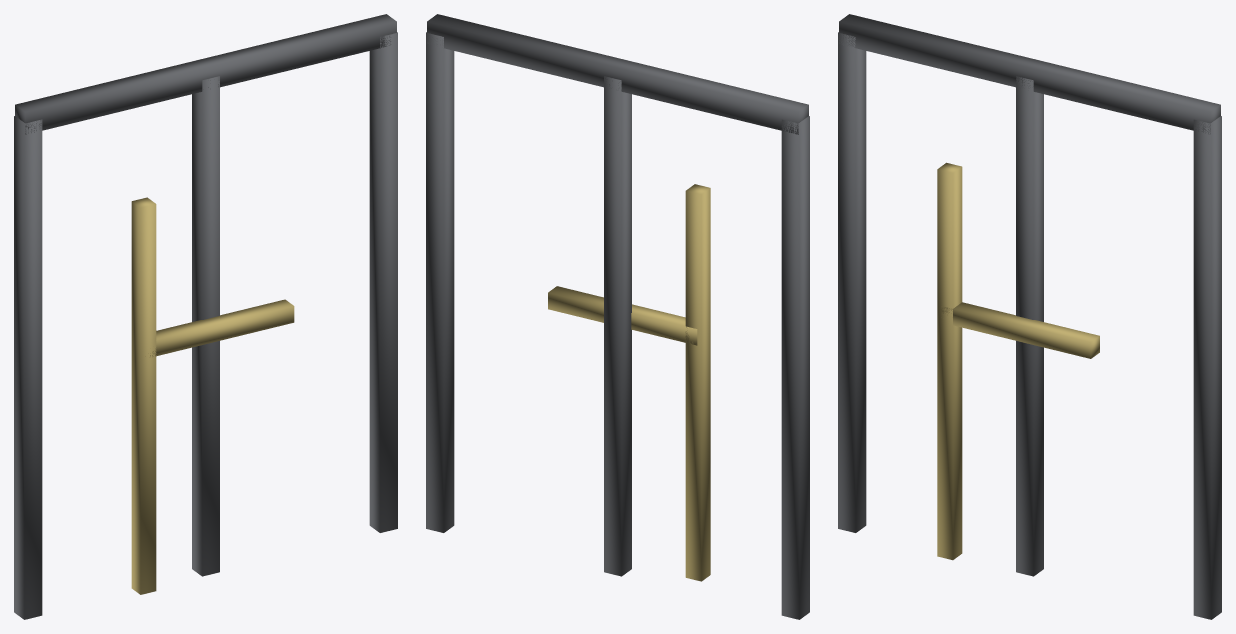
File: industrial_gate_l90_h120.glb
The picture shows the model from 3 angles, left to right: view 1: azimuth 30°, elevation 25°; view 2: azimuth 150°, elevation 25°; view 3: azimuth 330°, elevation 25°; orthographic projection.
Parts seen in each view (by area): view 1: world; view 2: world; view 3: world.
Part boxes in pixels (x1,y1,x2,y2): world: (14,14,397,619); world: (426,14,809,619); world: (838,14,1221,619).
Size of the model in its own units: 0.945 by 1.23 by 0.0825.
